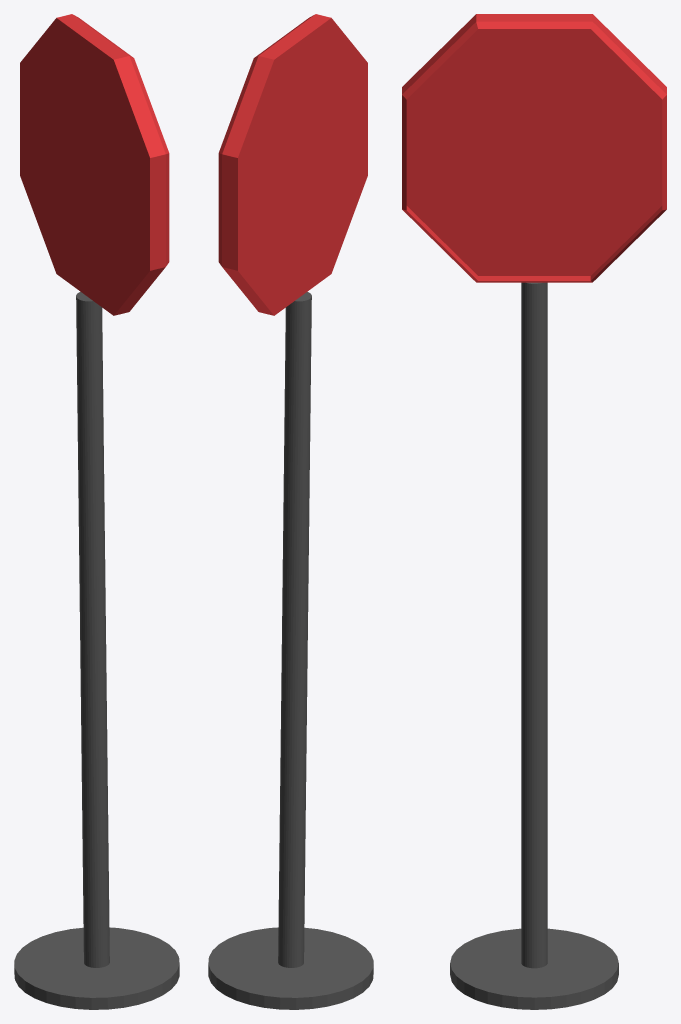
File: LowPolyRoadSign.fbx
3 renders of one model, left to right at view 1: azimuth 30°, elevation 25°; view 2: azimuth 150°, elevation 25°; view 3: azimuth 270°, elevation 25°, orthographic.
Visible parts, largest first — view 1: Sign Head, Pole; view 2: Sign Head, Pole; view 3: Sign Head, Pole.
Part boxes in pixels (bbox=[...]): Sign Head: bbox=[20, 14, 169, 315]; Pole: bbox=[14, 292, 179, 1009]; Sign Head: bbox=[218, 14, 367, 315]; Pole: bbox=[208, 292, 373, 1009]; Sign Head: bbox=[402, 14, 666, 282]; Pole: bbox=[450, 282, 618, 1009].
Bounding box in the file's own units: 88.6 × 554 × 139.
